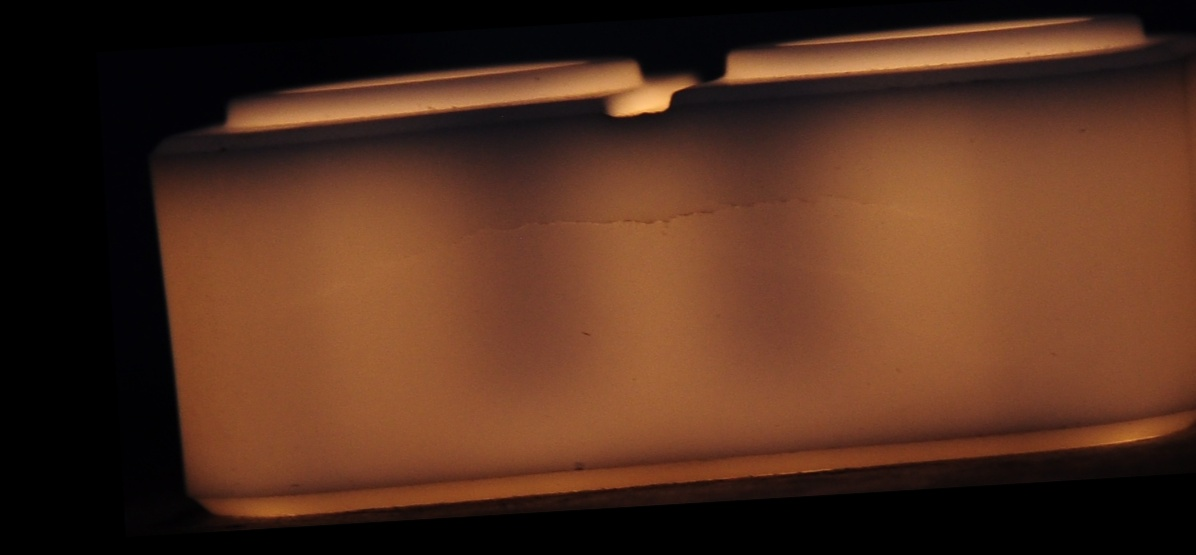flaw: (192, 196, 999, 280)
